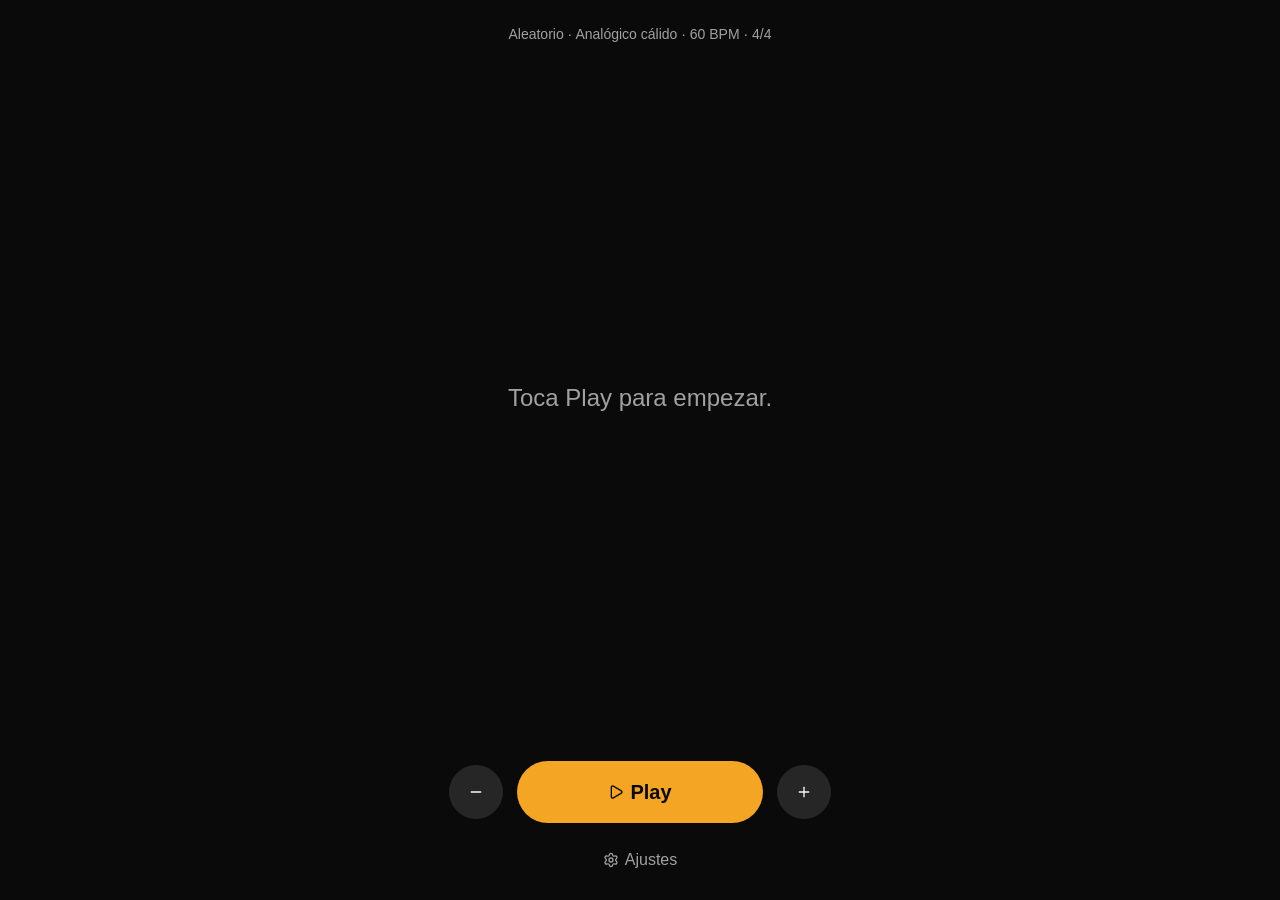
Test: compases por nota empieza en 2 y se limita a 1–16
Click the button "Ajustes" at (640, 860), box [582,836,698,884]
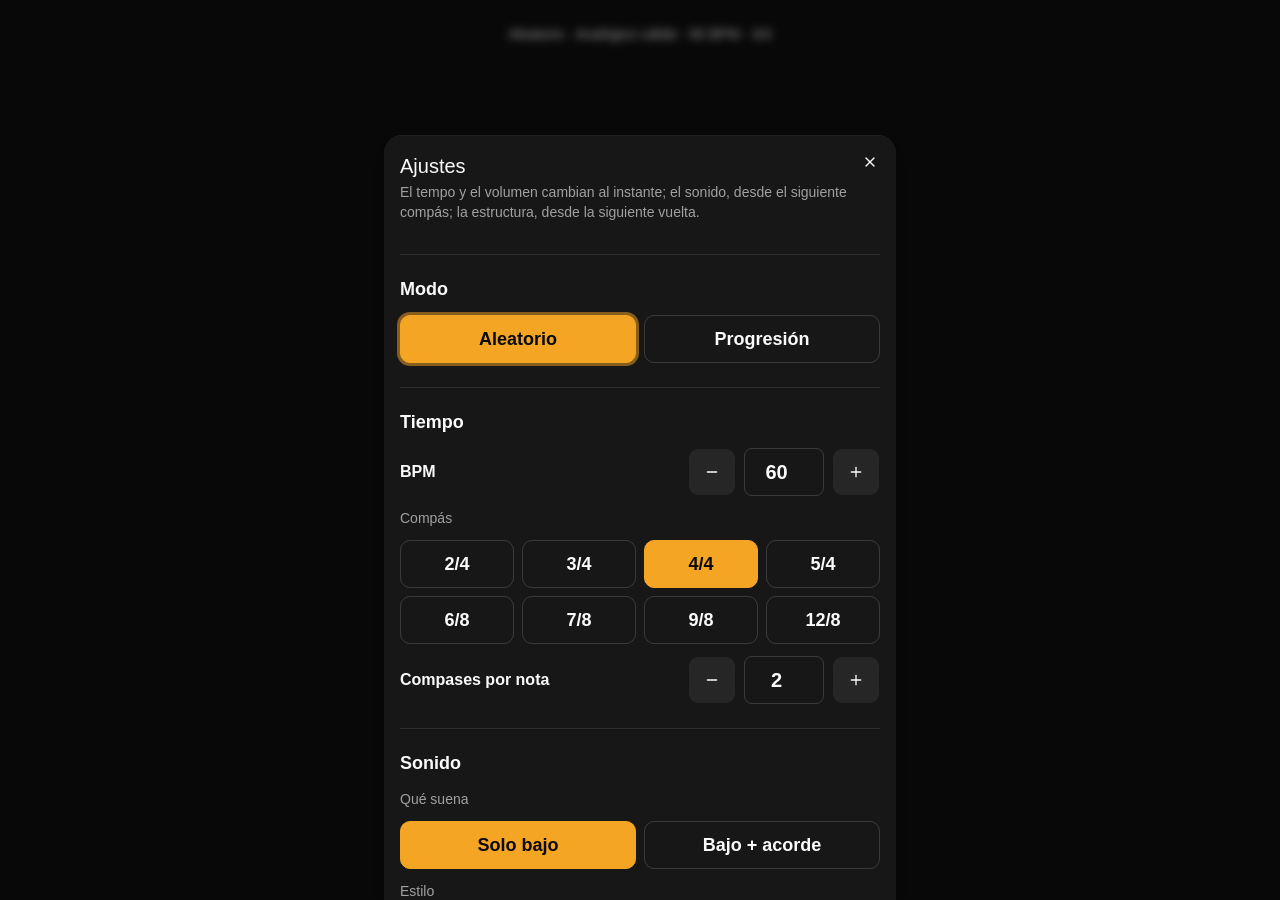
Result: the number field labelled "Compases por nota" holds "2"
Replace the text in the number field labelled "Compases por nota" with "20" at (784, 680), box [744,656,824,704]
Then press Enter
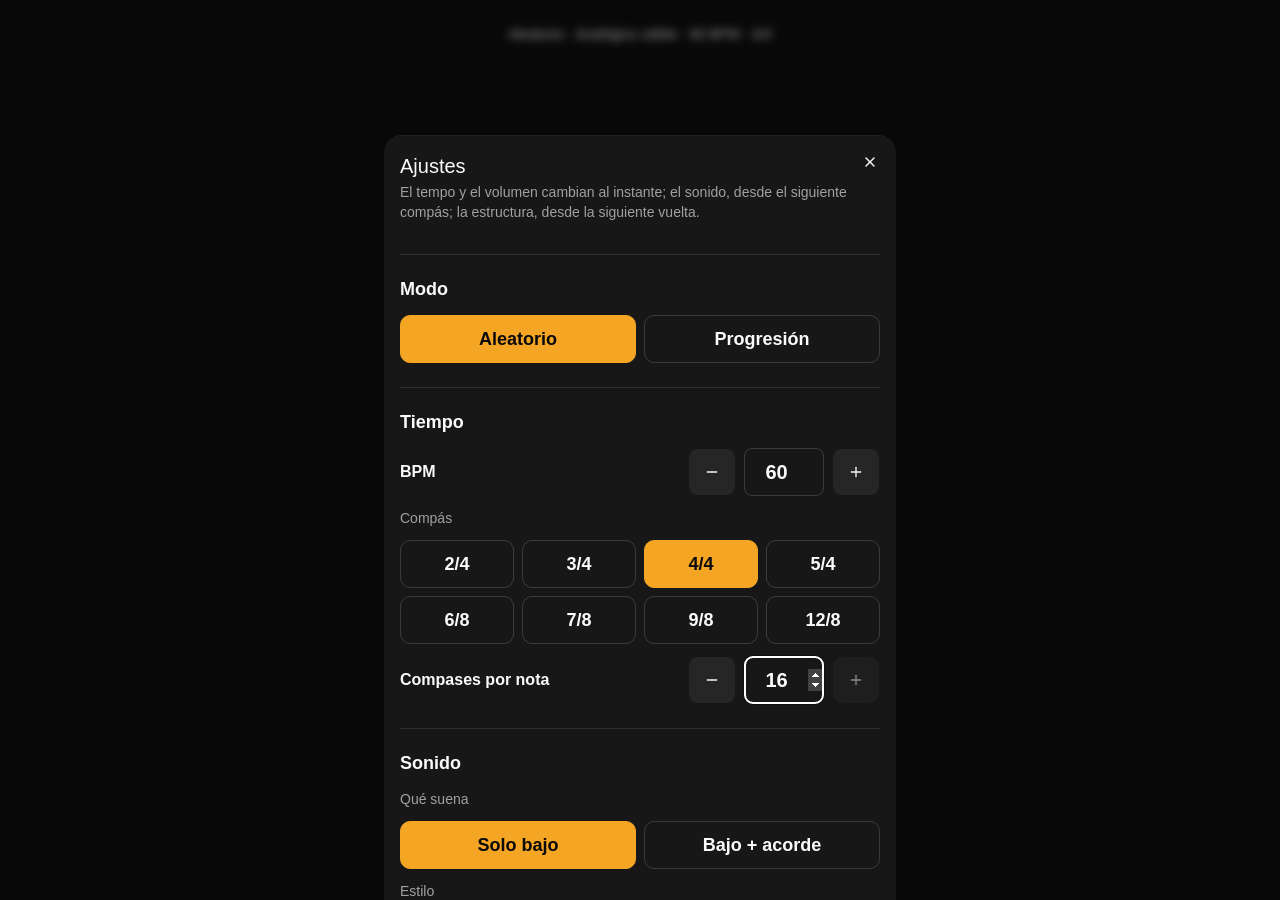
Result: the number field labelled "Compases por nota" holds "16"
Replace the text in the number field labelled "Compases por nota" with "0" at (784, 680), box [744,656,824,704]
Then press Enter
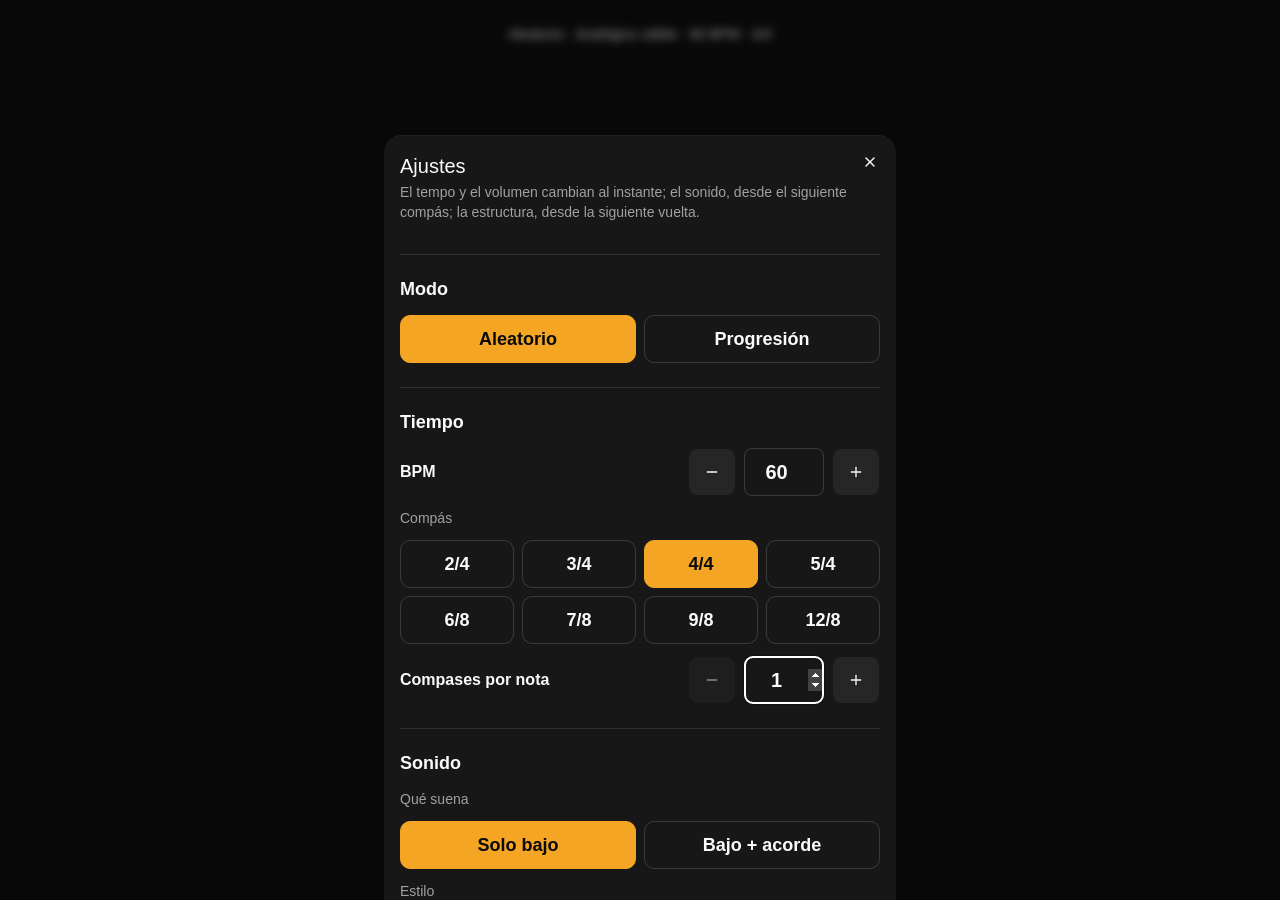
Result: the number field labelled "Compases por nota" holds "1" at [744,656,824,704]
